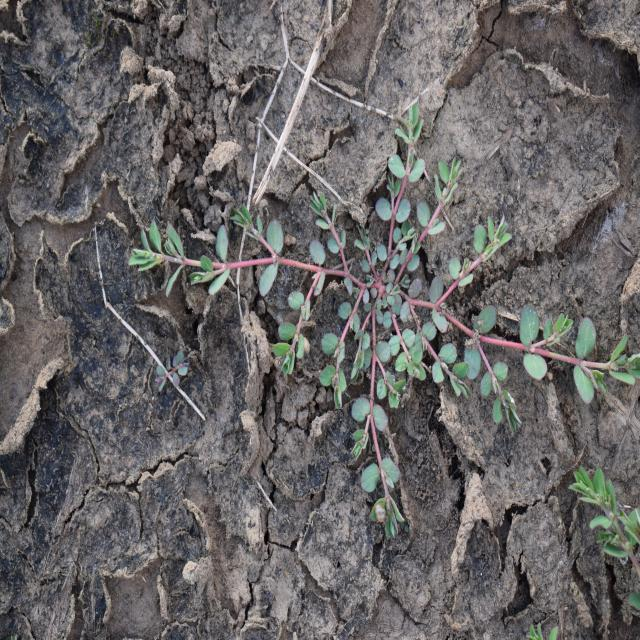SpottedSpurge: (126, 102, 639, 542), (567, 463, 639, 619), (153, 346, 190, 393)
